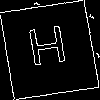H: (24, 25, 72, 77)
